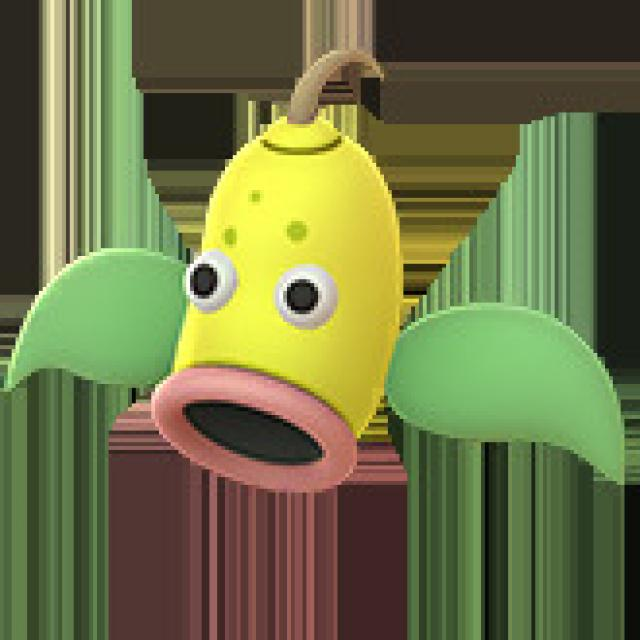Weepinbell: (106, 41, 452, 500)
